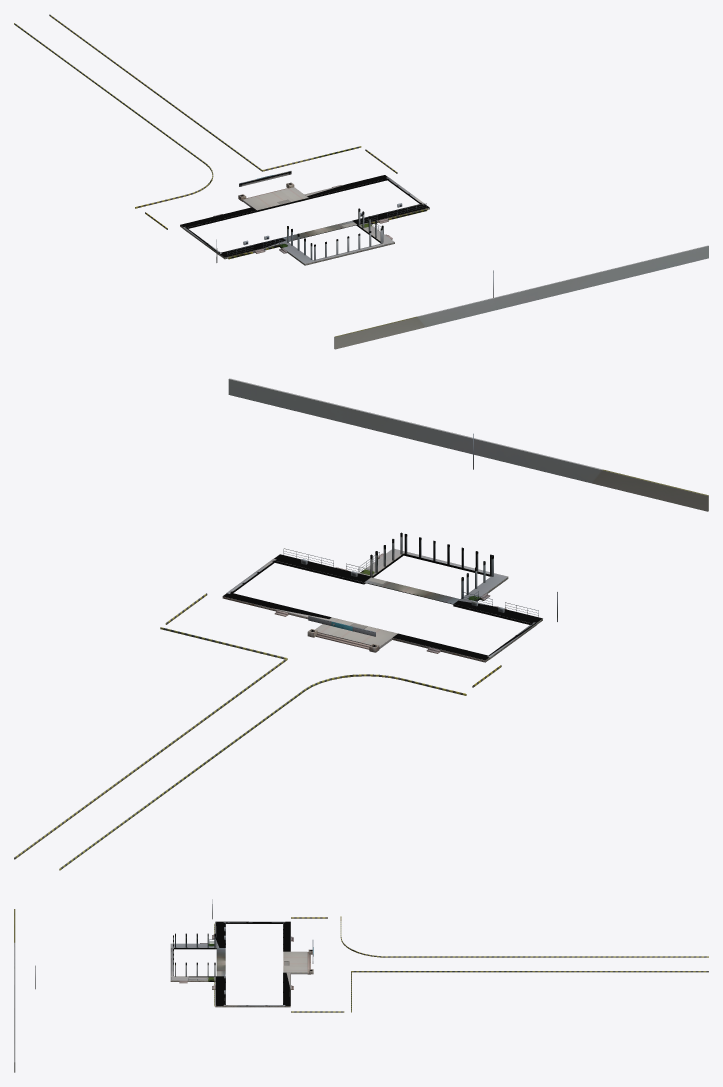
Rendered from world_ext0.glb.
The picture shows the model from 3 angles, top to bottom: view 1: azimuth 30°, elevation 25°; view 2: azimuth 150°, elevation 25°; view 3: azimuth 270°, elevation 25°; orthographic projection. The views are drawn at different scales.
Parts seen in each view (by area): view 1: W_ext0; view 2: W_ext0; view 3: W_ext0.
Part boxes in pixels (x1,y1,x2,y2): W_ext0: (14, 14, 708, 349); W_ext0: (14, 378, 708, 870); W_ext0: (14, 899, 708, 1072).
Size of the model in its own units: 71 by 5.07 by 134.
1 material, 1 textured.
